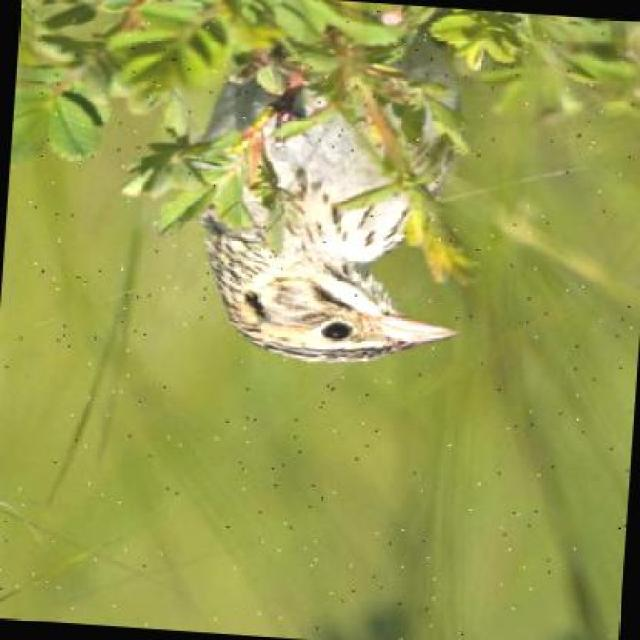Bird: (205, 82, 466, 374)
